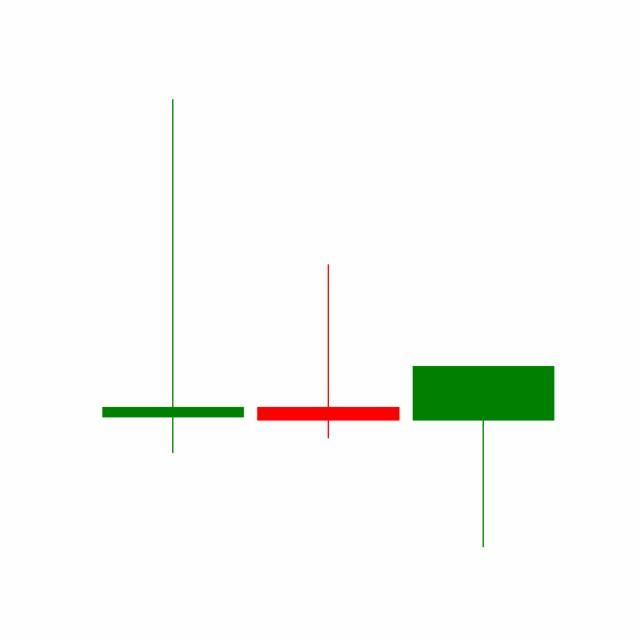Hammer: (406, 364, 562, 550)
